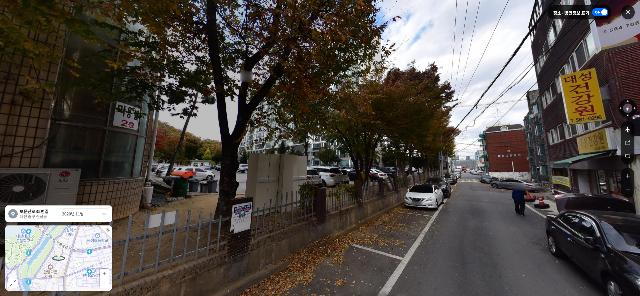other: (21, 0, 402, 247), (317, 59, 460, 193)
